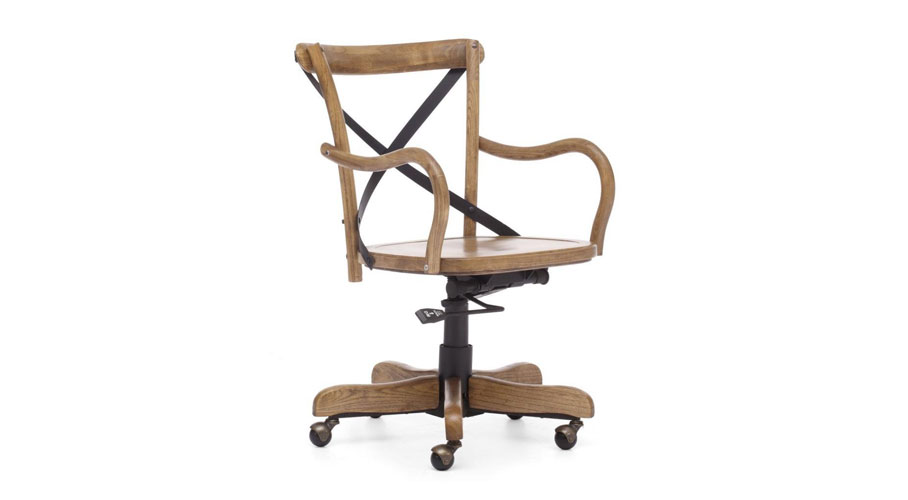chairs: (282, 36, 627, 470)
